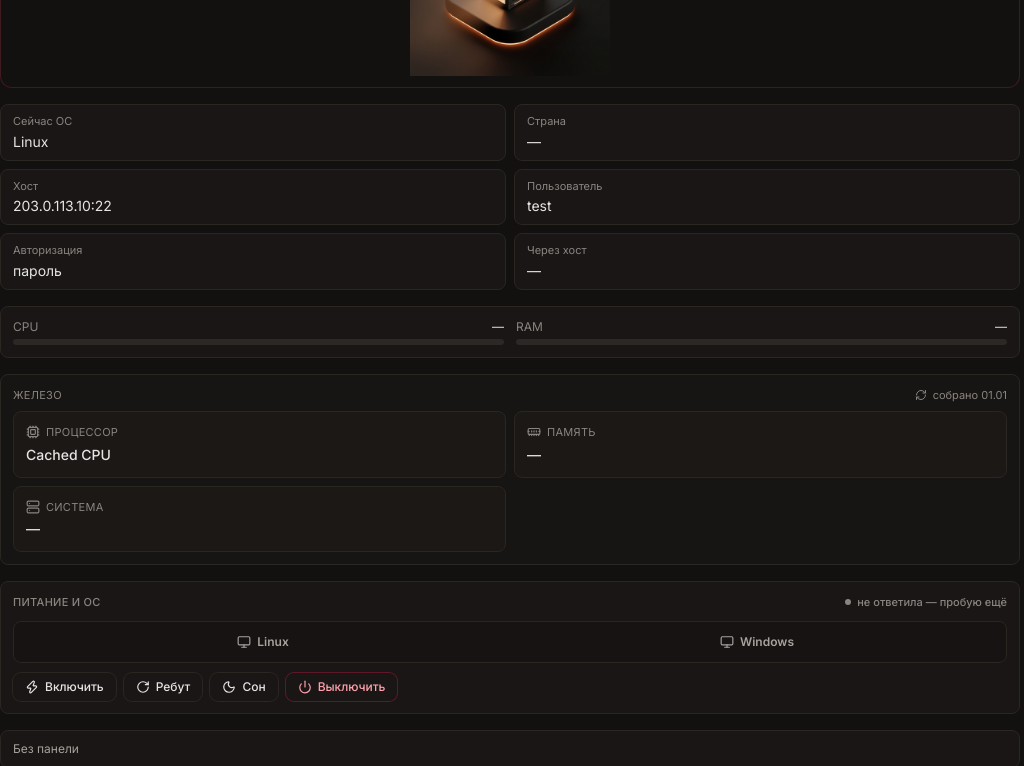
Test: OverviewPane IPC failures › recovers from wake rejection (dual boot=true)
The width and height of the screenshot is (1024, 766).
(page scrolled)
Click the button "Включить" at (64, 686), box top-left (13, 672), bottom-right (116, 700)
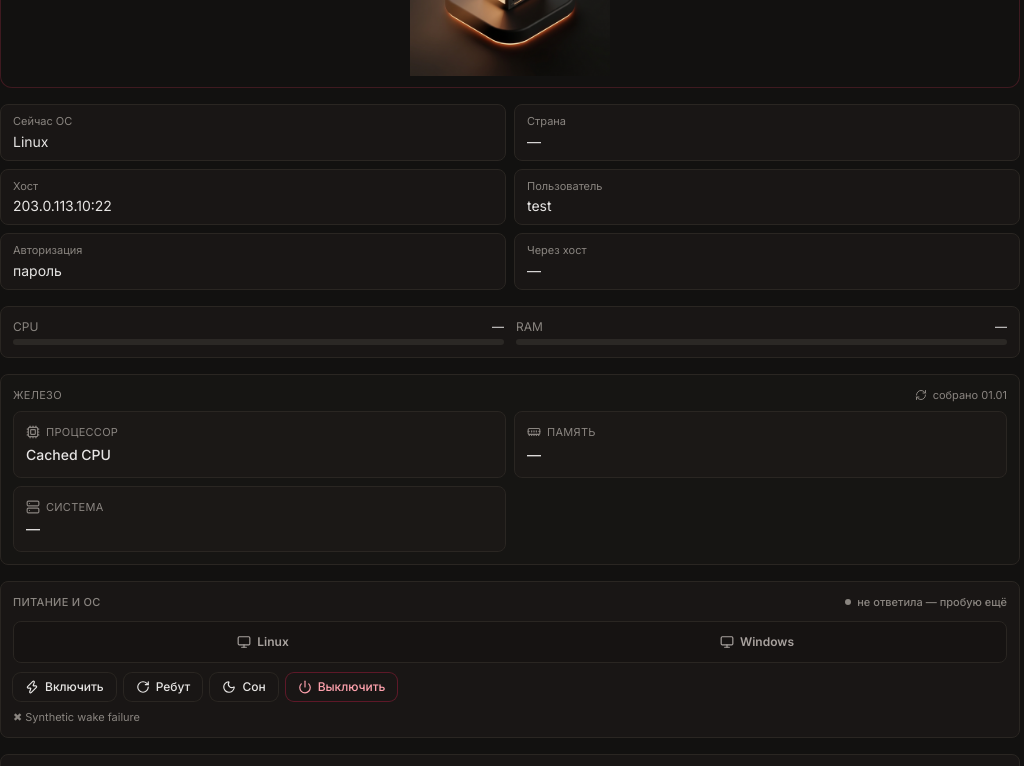
Expected: the text "✖ Synthetic wake failure" is shown, top-left (13, 710), bottom-right (140, 724)
Click the button "Включить" at (64, 686), box top-left (13, 672), bottom-right (116, 700)
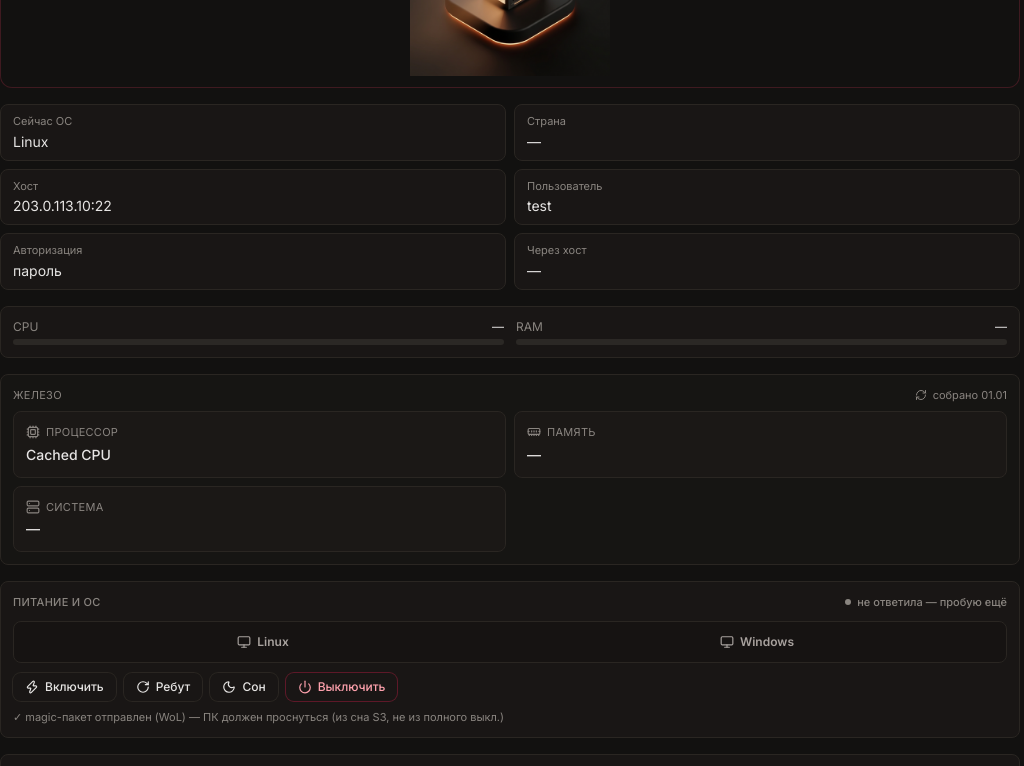
Expected: the text "magic-пакет отправлен" is shown, top-left (13, 710), bottom-right (504, 724)
